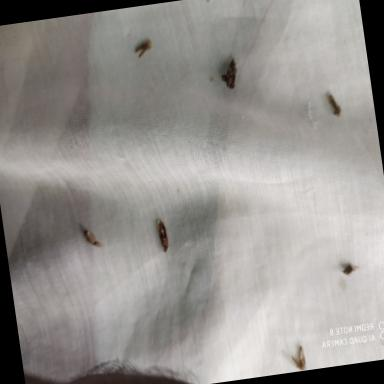pbw: (156, 218, 171, 254), (288, 344, 307, 372), (130, 40, 152, 58)
